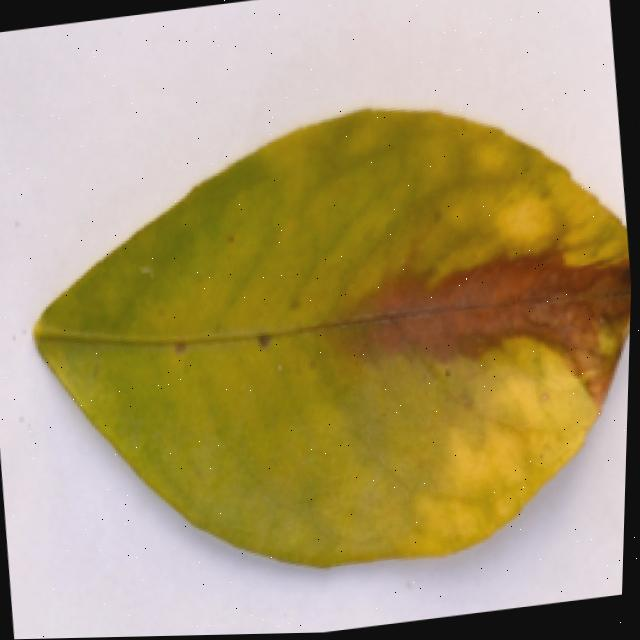canker: (37, 109, 631, 566)
